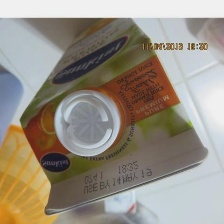carton: (16, 16, 215, 220)
